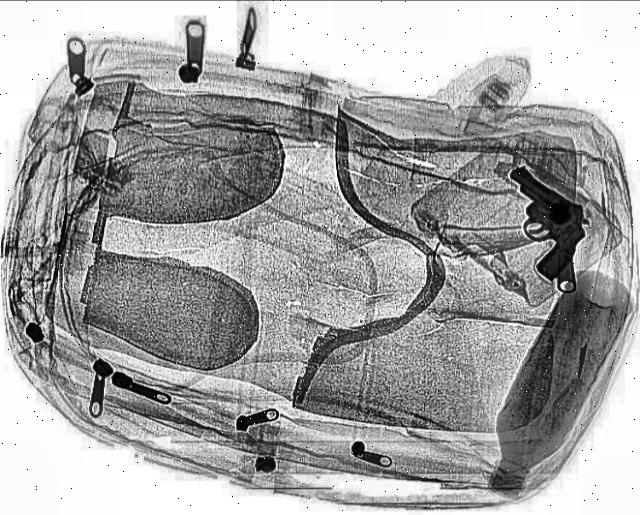Gun: (456, 162, 616, 278)
